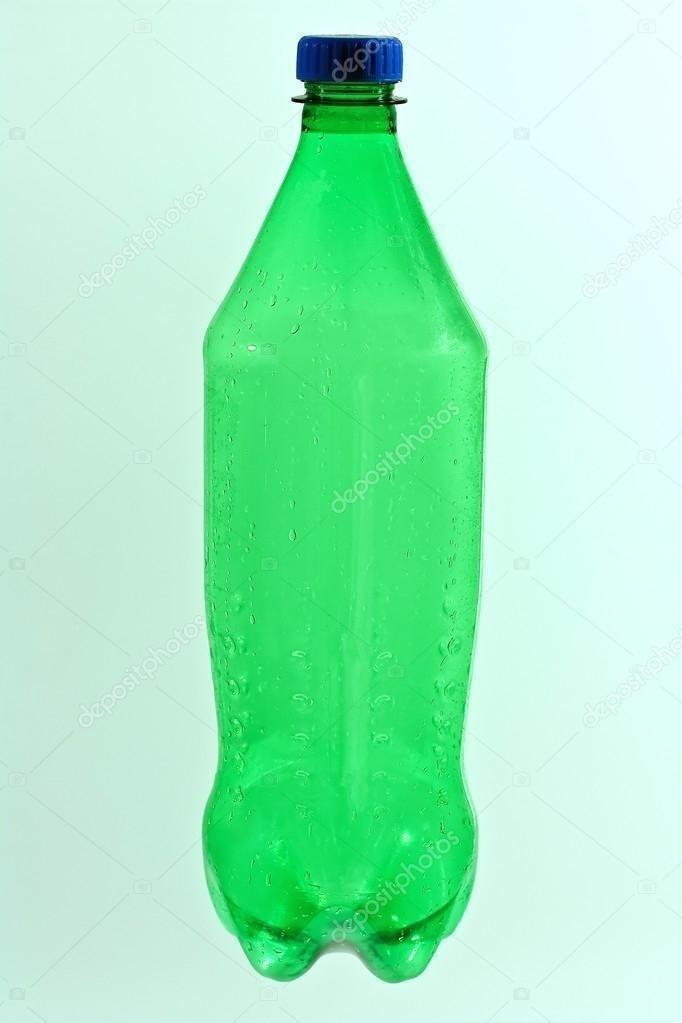bottle-plastic: (181, 23, 491, 999)
